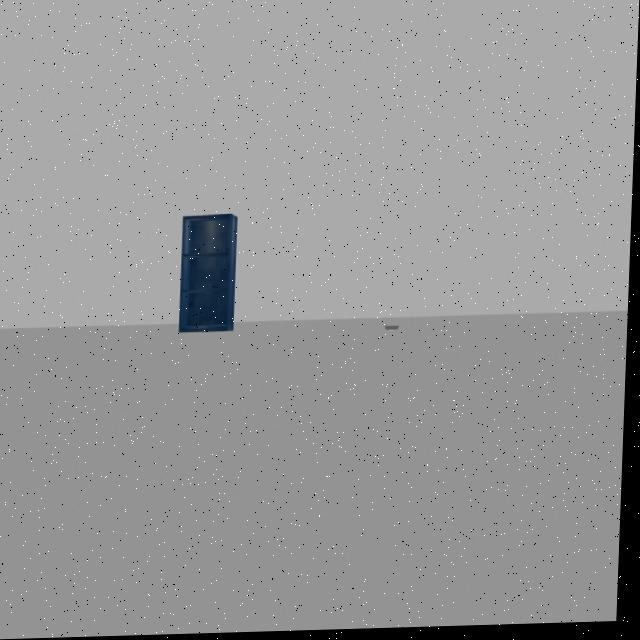bowl: (384, 319, 408, 341)
shelf: (174, 203, 247, 351)
